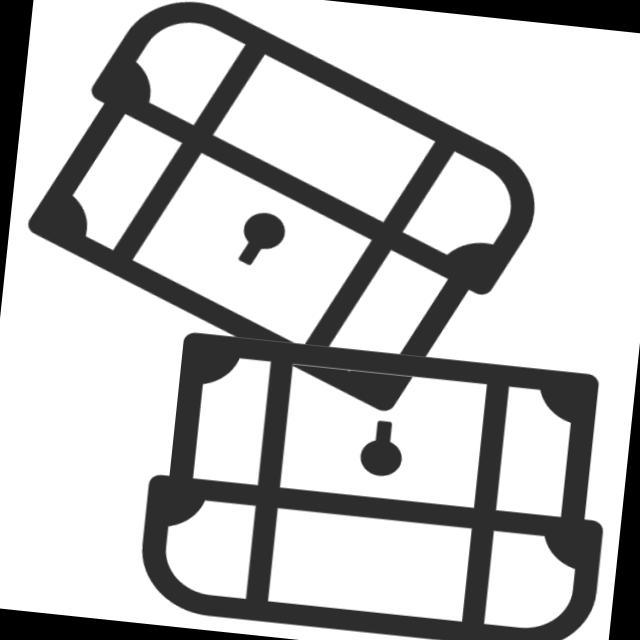treasure_box: (4, 1, 556, 430), (132, 307, 625, 640)
